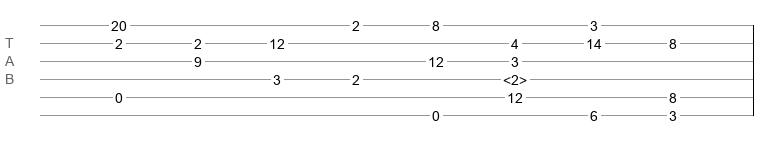0: (115, 90, 123, 100), (432, 108, 440, 118)
12: (269, 36, 285, 46), (428, 54, 444, 64), (507, 90, 523, 100)
14: (586, 36, 602, 46)
2: (115, 36, 123, 46), (194, 36, 202, 46), (352, 72, 360, 82), (352, 18, 360, 28)
20: (111, 18, 127, 28)
3: (273, 72, 281, 82), (511, 54, 519, 64), (590, 18, 598, 28), (669, 108, 677, 118)
4: (511, 36, 519, 46)
6: (590, 108, 598, 118)
8: (432, 18, 440, 28), (669, 90, 677, 100), (669, 36, 677, 46)
9: (194, 54, 202, 64)
harmonic: (503, 72, 527, 82)
